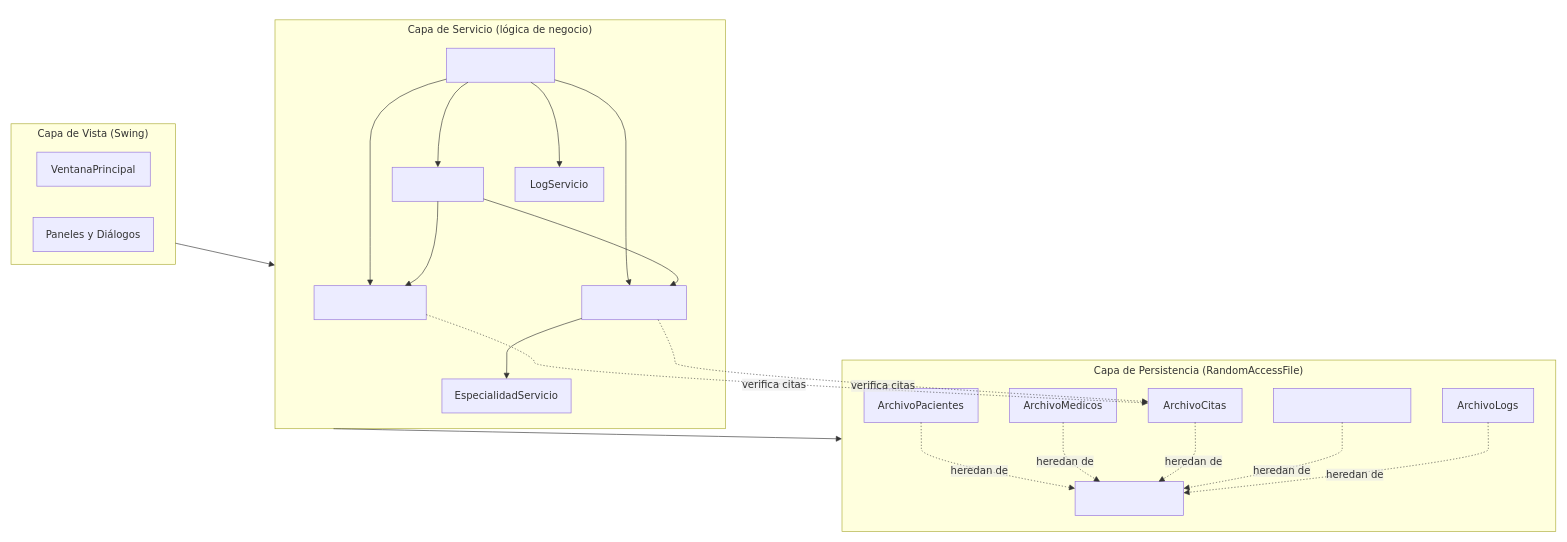
Some shapes in this 1567 by 542 pixel diagram are drawn without their labels. The centre of each missing label's shape, as x and y in pixels:
ArchivoBase<T>: point (1128, 498)
ArchivoEspecialidades: point (1342, 405)
CitaServicio: point (438, 184)
MedicoServicio: point (633, 302)
PacienteServicio: point (369, 302)
ReporteServicio: point (500, 65)
